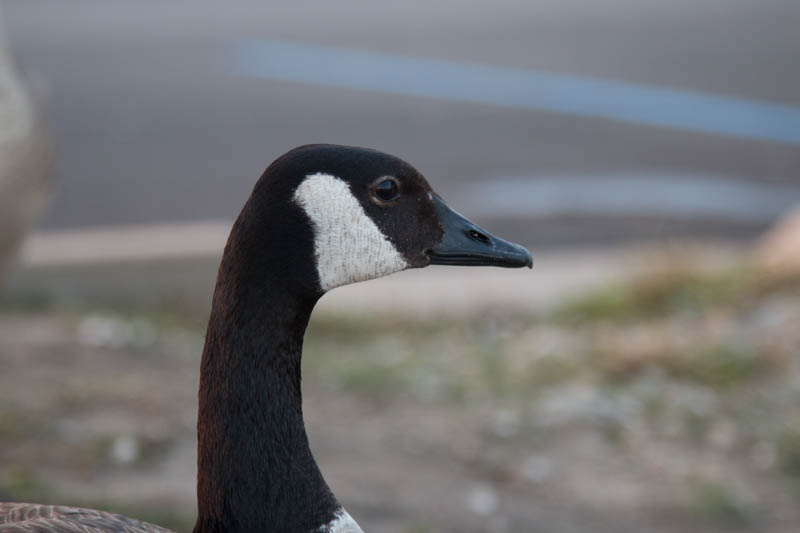goose-head: (214, 144, 534, 290)
